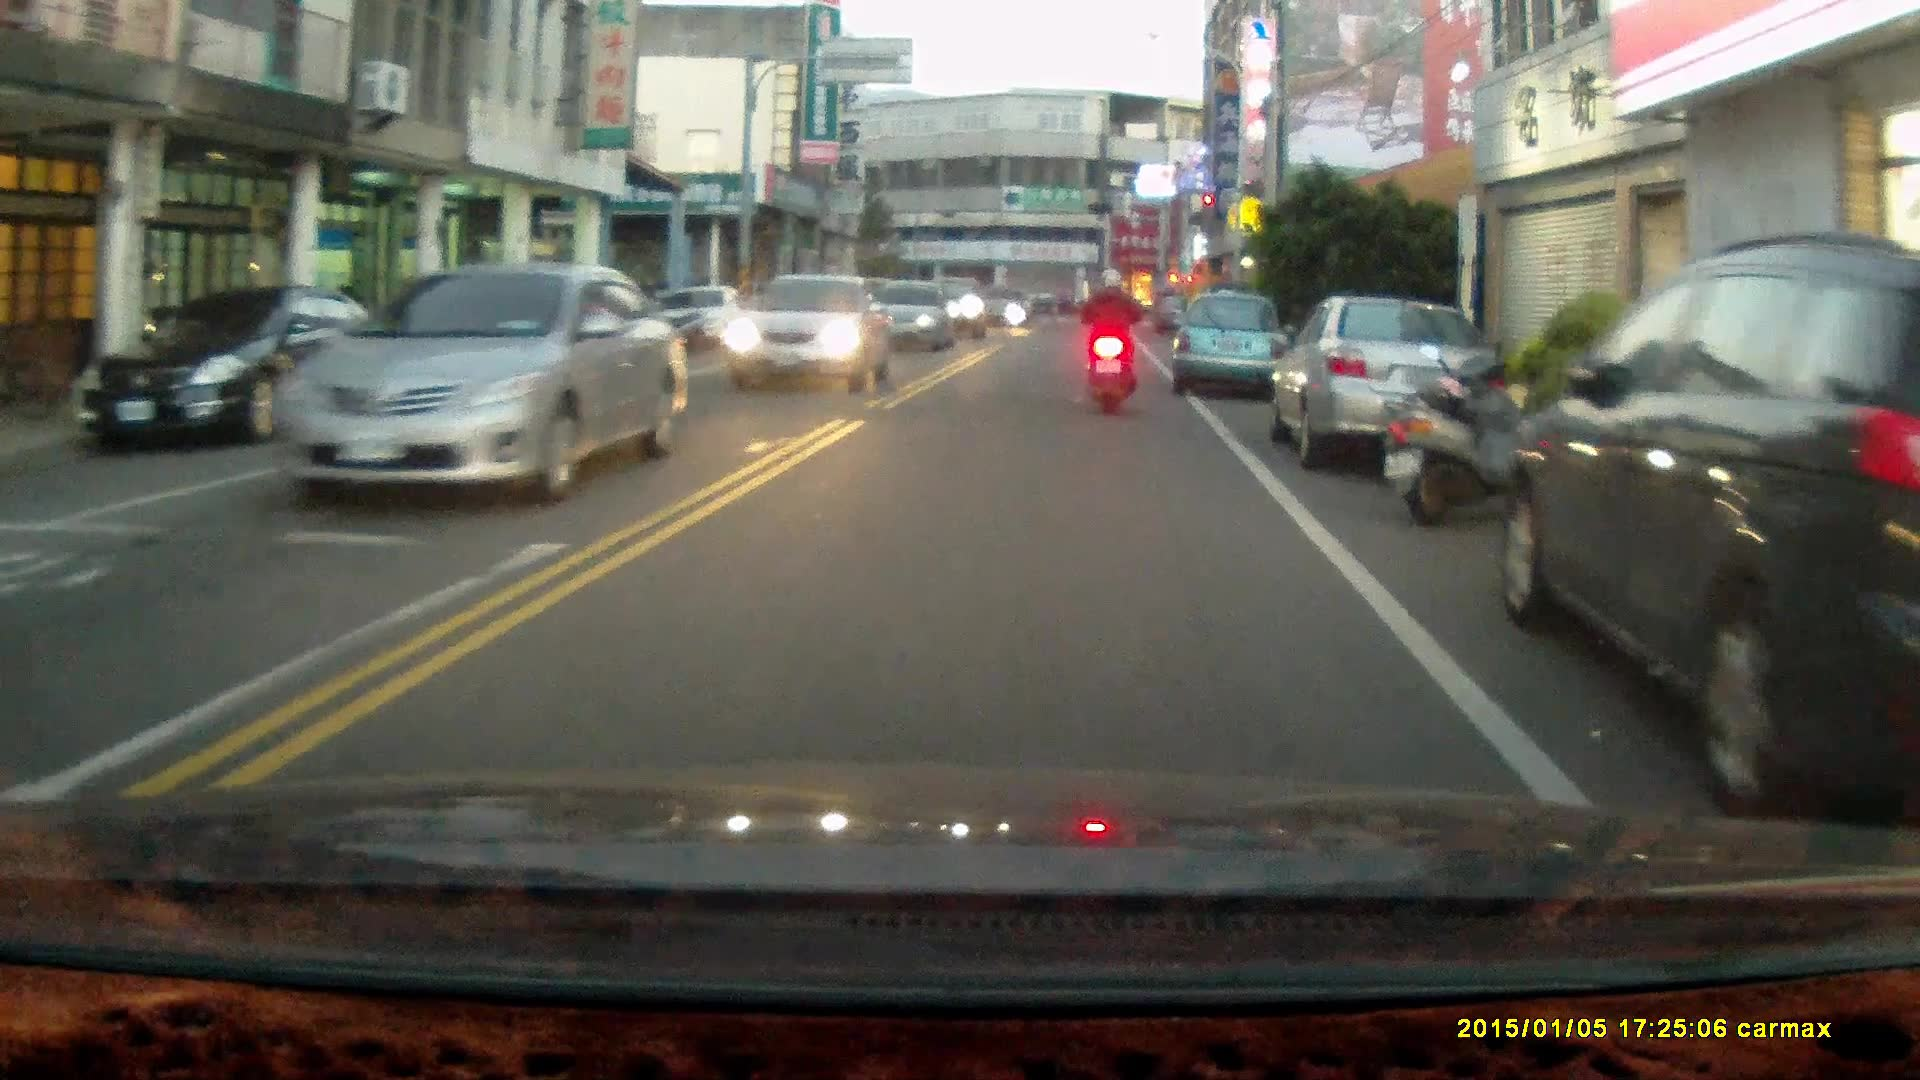rider: (1081, 265, 1141, 417)
vehicle: (1500, 230, 1920, 790), (262, 261, 693, 505), (65, 285, 400, 457), (1269, 294, 1495, 469), (722, 276, 894, 396), (1169, 292, 1296, 402), (861, 284, 955, 356)
